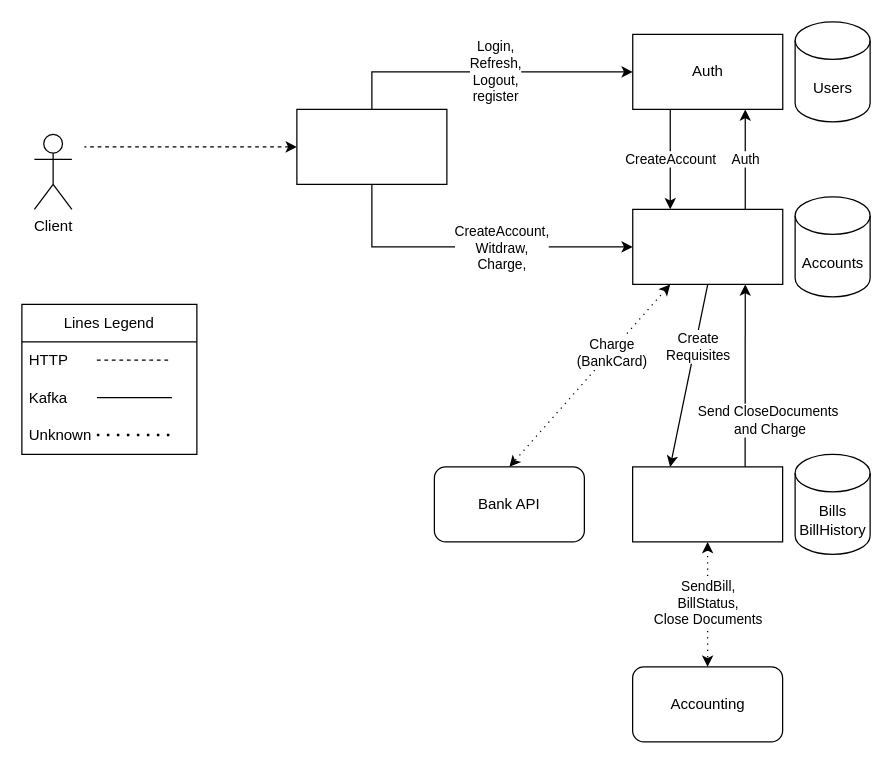
Some shapes in this 893 by 764 pixel diagram are drawn without their labels. The shapes that lost their labels are listed below. From the top down, each one's centre as x and y in pixels, then its label:
point 371,146: API Gateway
point 707,246: Billing
point 707,504: Accounting Proxy
